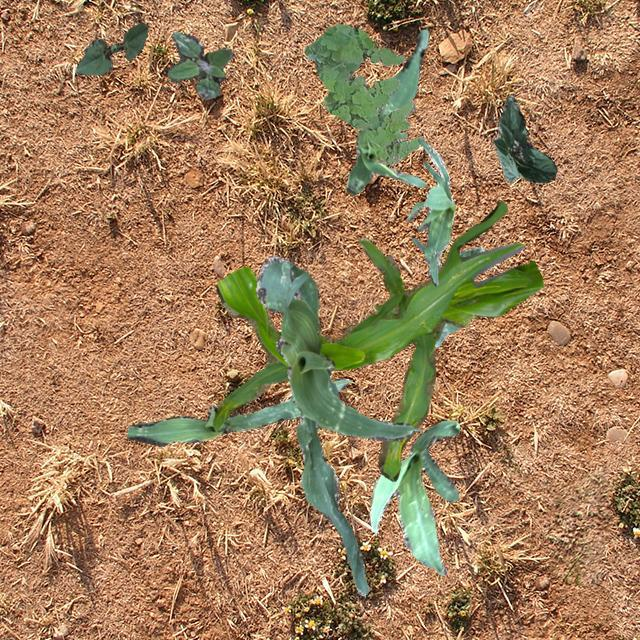crop: (212, 200, 542, 480), (254, 256, 420, 594), (125, 376, 348, 446), (344, 28, 428, 194), (368, 420, 458, 574), (404, 138, 454, 284), (492, 95, 554, 182), (433, 246, 482, 346), (76, 22, 148, 74)
weed: (304, 23, 421, 164), (166, 31, 232, 98)
